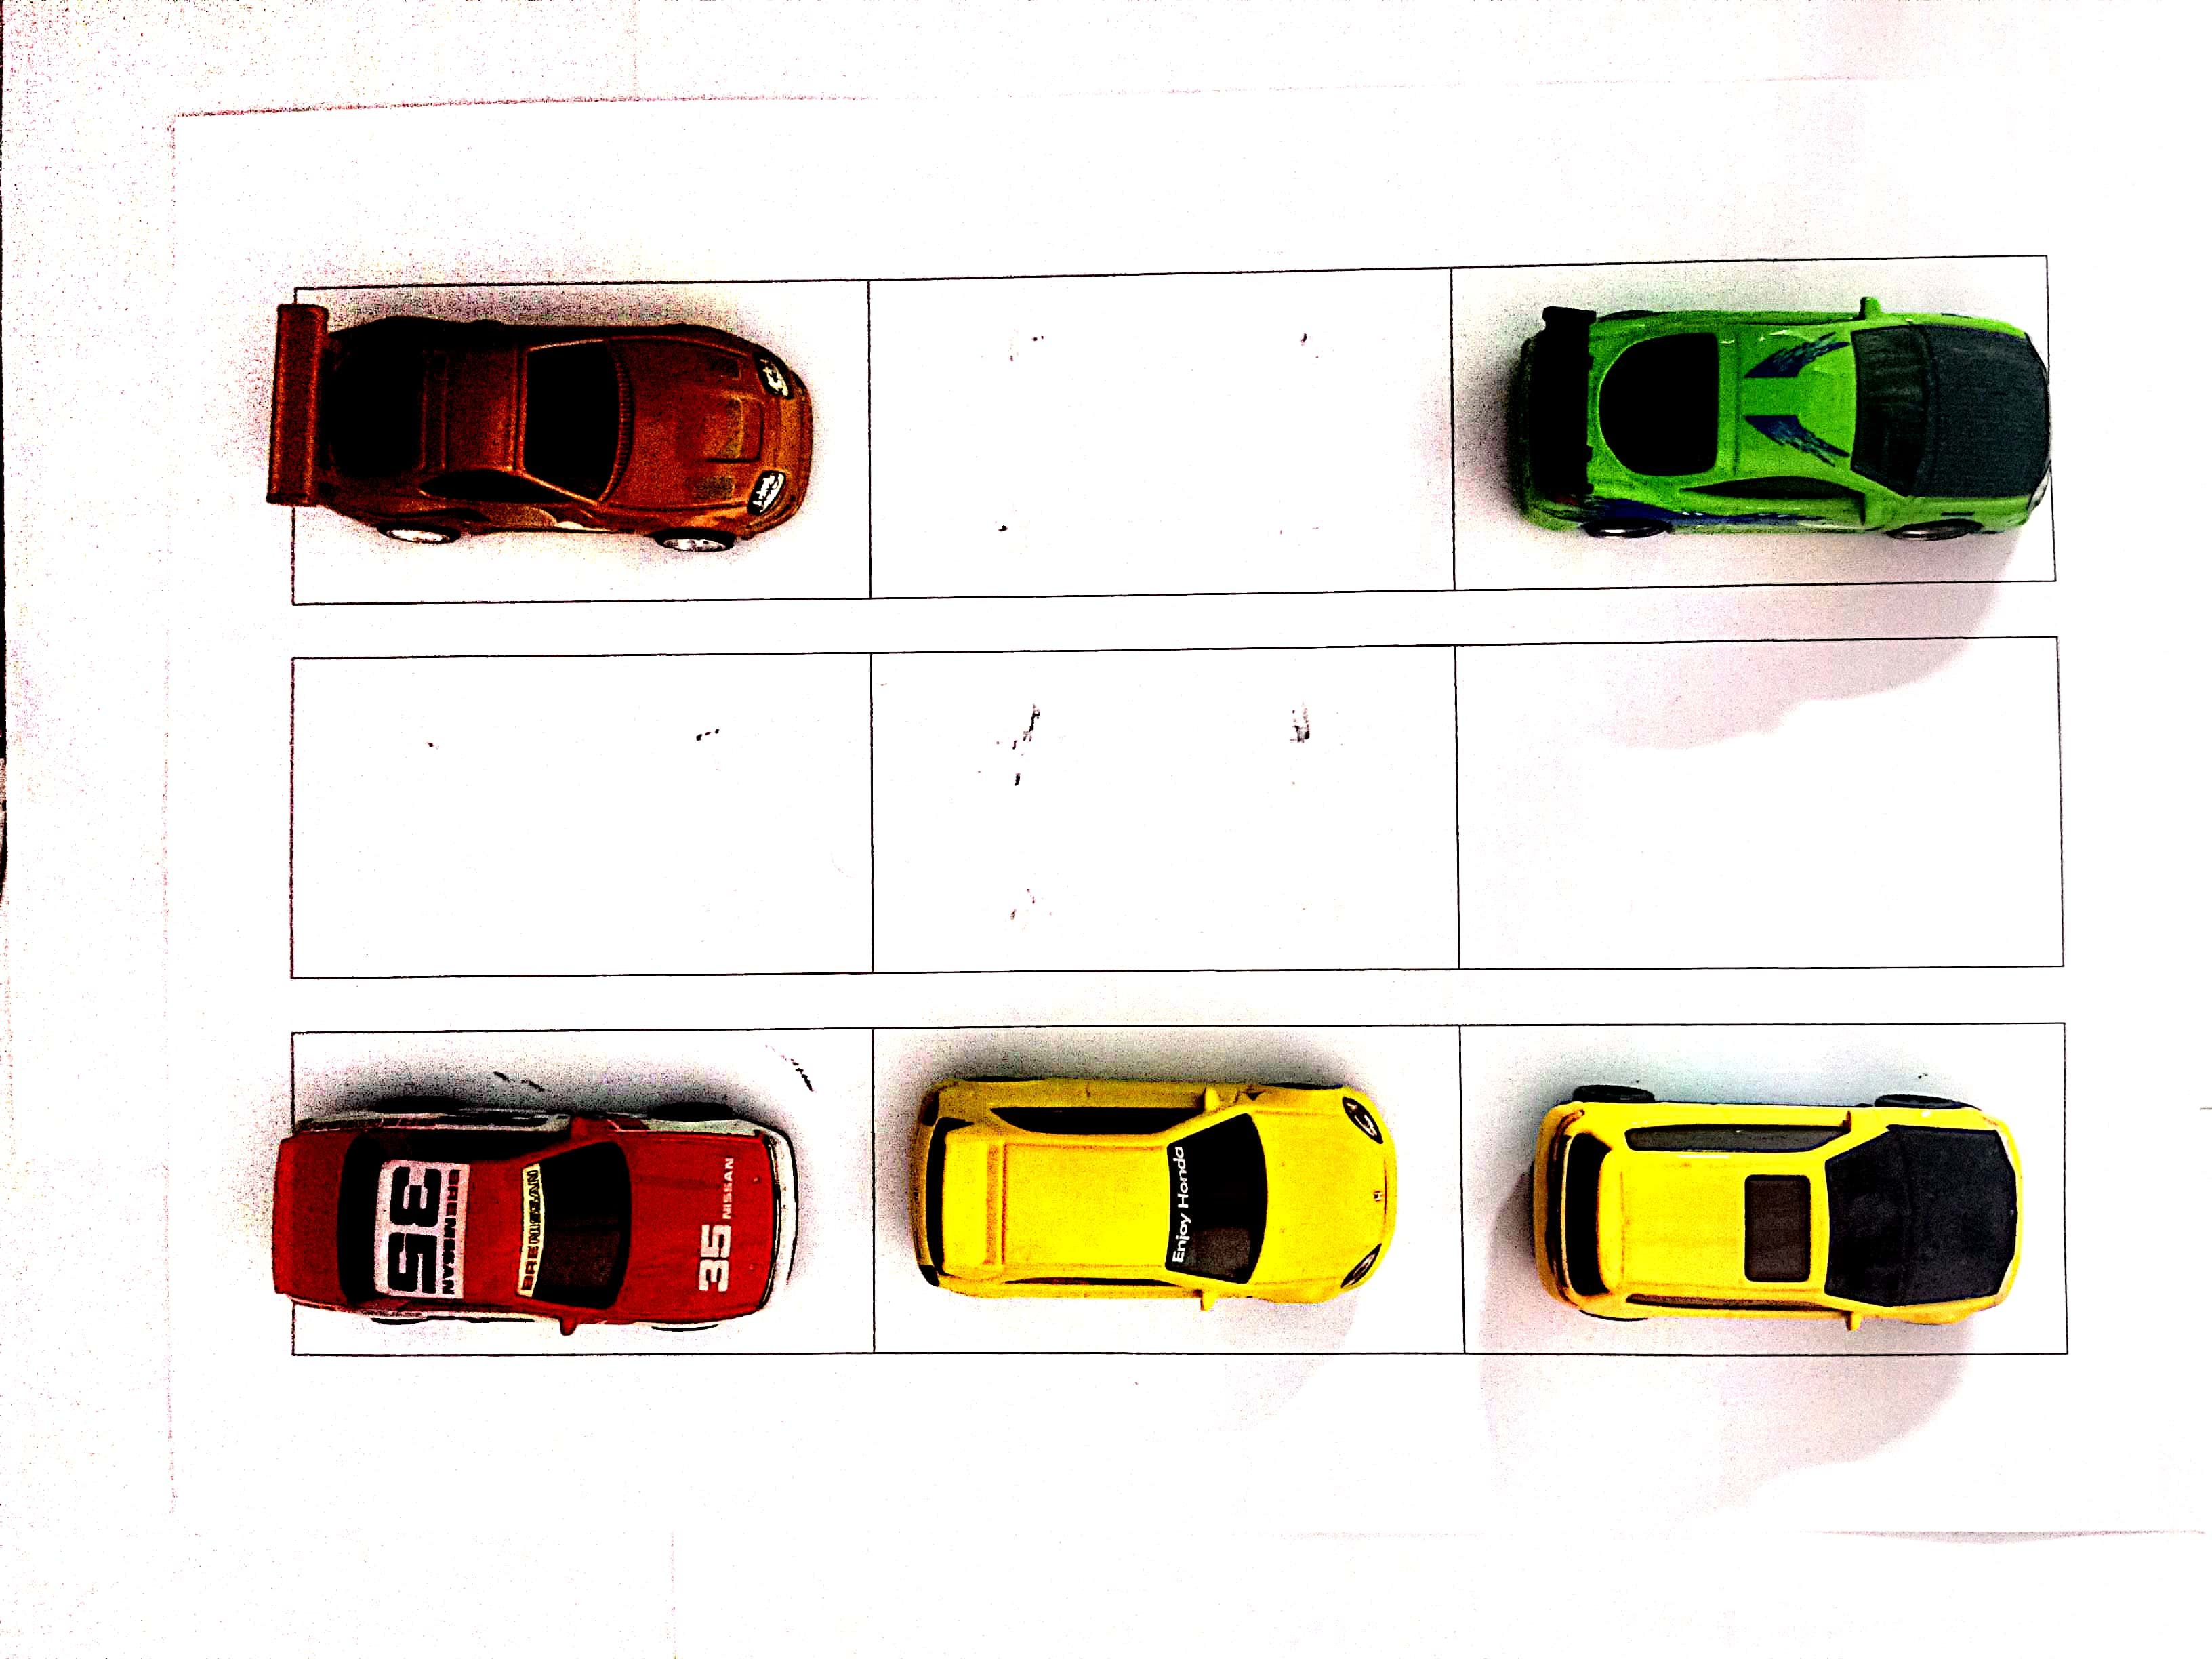Busy: (1467, 1019, 2064, 1354), (874, 1026, 1463, 1354), (1454, 261, 2047, 584), (296, 1026, 869, 1345), (296, 284, 866, 594)
Free: (1460, 640, 2054, 962), (878, 650, 1454, 972), (874, 275, 1451, 594), (296, 657, 874, 972)
